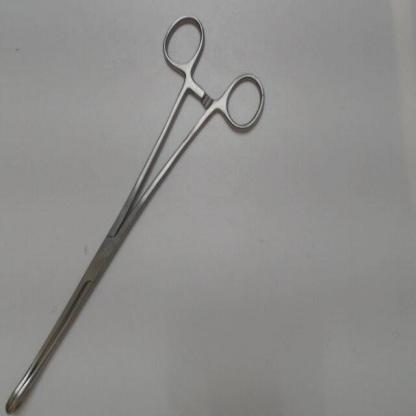Sponge Forceps: (1, 3, 275, 414)
